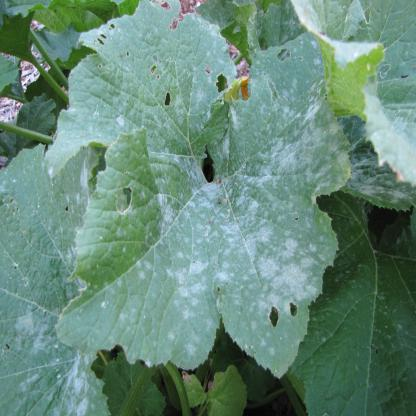PowderyMildew: (164, 191, 319, 305)
